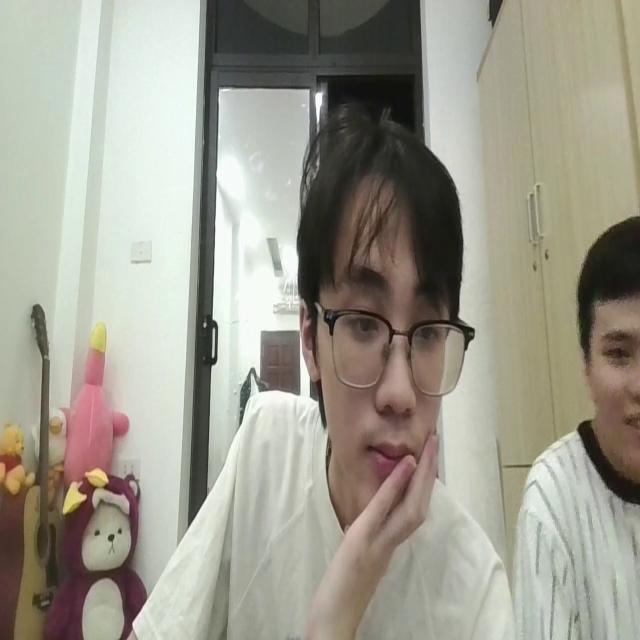extra_person: (515, 204, 640, 639)
student: (101, 99, 518, 640)
